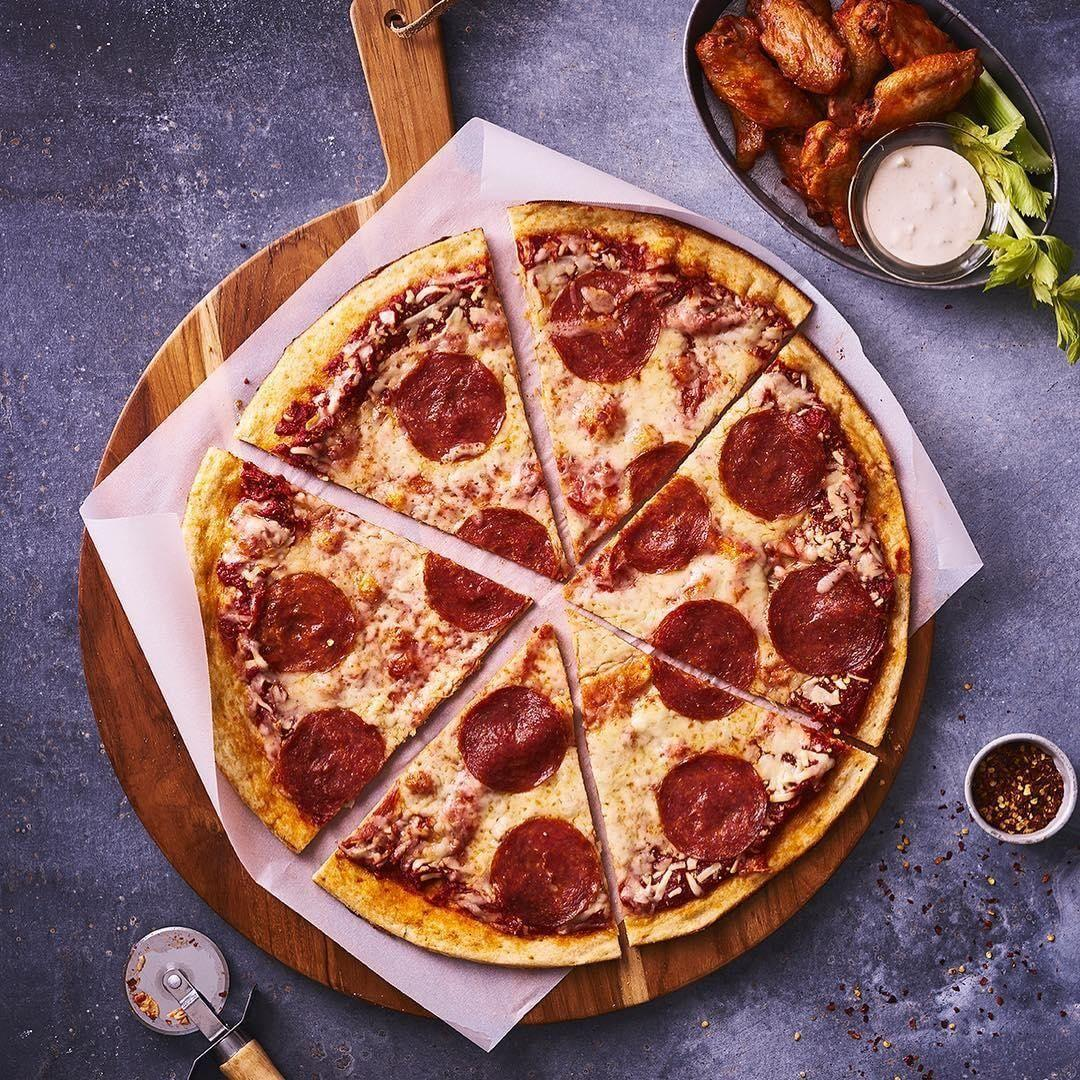Pepperoni: (272, 698, 394, 835), (638, 599, 762, 728), (596, 443, 714, 578), (709, 402, 840, 520), (488, 806, 600, 943), (755, 559, 890, 671), (548, 260, 669, 380), (652, 751, 776, 864), (394, 347, 508, 466), (460, 689, 580, 797), (414, 541, 536, 641), (257, 573, 362, 681), (453, 489, 568, 582)
Pizza: (200, 181, 909, 981)
